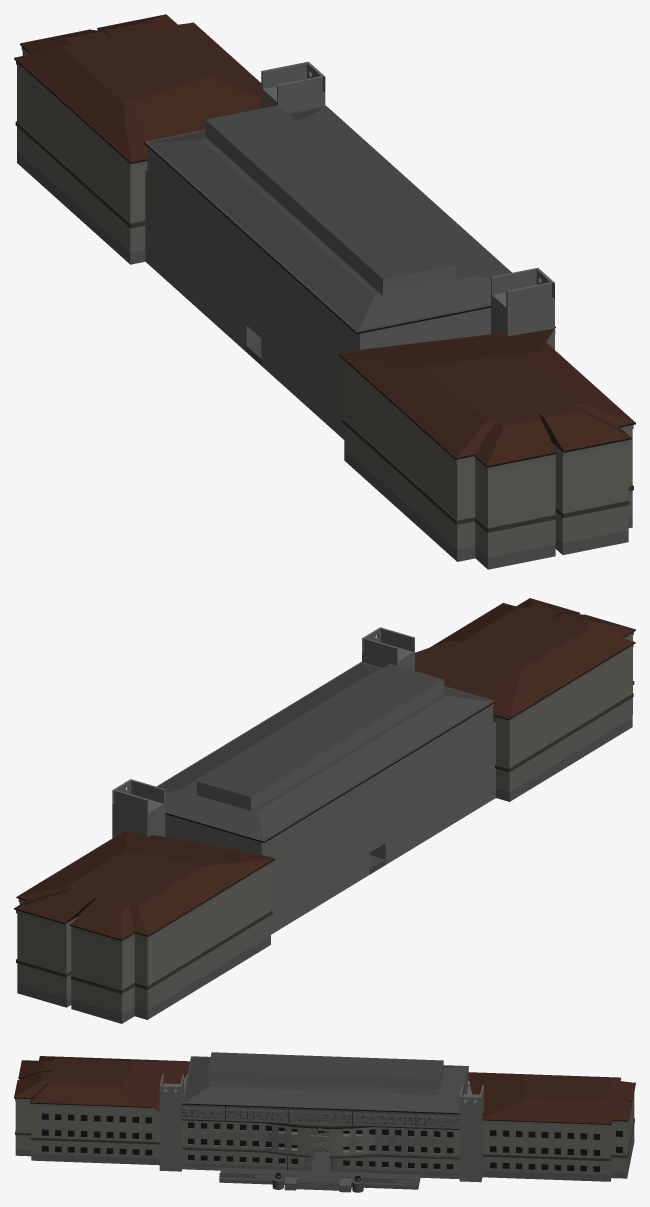
The model's file is moffett-molecular-biology-look.glb.
3 views of the same model, one above another, from view 1: azimuth 30°, elevation 25°; view 2: azimuth 150°, elevation 25°; view 3: azimuth 270°, elevation 25° (orthographic). The views are drawn at different scales.
Visible parts, largest first — view 1: n_roof_tile_clay, n_wall_limestone_smooth, n_roof_flat, n_wall_limestone_rough, n_wall_limestone_ashlar, n_granite_base, n_band_canopy_weathered, n_metal_eave_brown; view 2: n_wall_limestone_smooth, n_roof_tile_clay, n_roof_flat, n_wall_limestone_rough, n_wall_limestone_ashlar, n_granite_base, n_band_canopy_weathered, n_metal_eave_brown; view 3: n_wall_limestone_smooth, n_roof_tile_clay, n_roof_flat, n_wall_limestone_rough, n_wall_limestone_ashlar, n_glass_window, n_granite_base, n_stair_granite, n_wall_carved_panel, n_band_canopy_weathered, n_frame_teal, n_metal_eave_brown (+6 smaller).
Part boxes in pixels (x1,y1,x2,y2): n_roof_tile_clay: (14, 14, 635, 466); n_wall_limestone_smooth: (16, 47, 633, 471); n_roof_flat: (144, 105, 511, 332); n_wall_limestone_rough: (17, 51, 632, 528); n_wall_limestone_ashlar: (17, 127, 632, 557); n_granite_base: (17, 151, 632, 569); n_band_canopy_weathered: (15, 121, 633, 532); n_metal_eave_brown: (14, 28, 635, 467); n_wall_limestone_smooth: (16, 627, 633, 943); n_roof_tile_clay: (14, 598, 635, 939); n_roof_flat: (156, 661, 495, 841); n_wall_limestone_rough: (17, 635, 632, 990); n_wall_limestone_ashlar: (17, 685, 632, 1014); n_granite_base: (17, 705, 632, 1023); n_band_canopy_weathered: (16, 681, 634, 993); n_metal_eave_brown: (14, 613, 635, 940); n_wall_limestone_smooth: (15, 1062, 631, 1182); n_roof_tile_clay: (14, 1056, 635, 1123); n_roof_flat: (181, 1052, 468, 1113); n_wall_limestone_rough: (15, 1073, 634, 1158); n_wall_limestone_ashlar: (15, 1125, 634, 1175); n_glass_window: (42, 1113, 622, 1171); n_granite_base: (15, 1136, 634, 1192); n_stair_granite: (219, 1151, 420, 1190); n_wall_carved_panel: (182, 1109, 459, 1168); n_band_canopy_weathered: (15, 1118, 634, 1161); n_frame_teal: (42, 1113, 622, 1181); n_metal_eave_brown: (14, 1066, 635, 1124).
Size of the model in its own units: 44.5 by 22.4 by 149.
